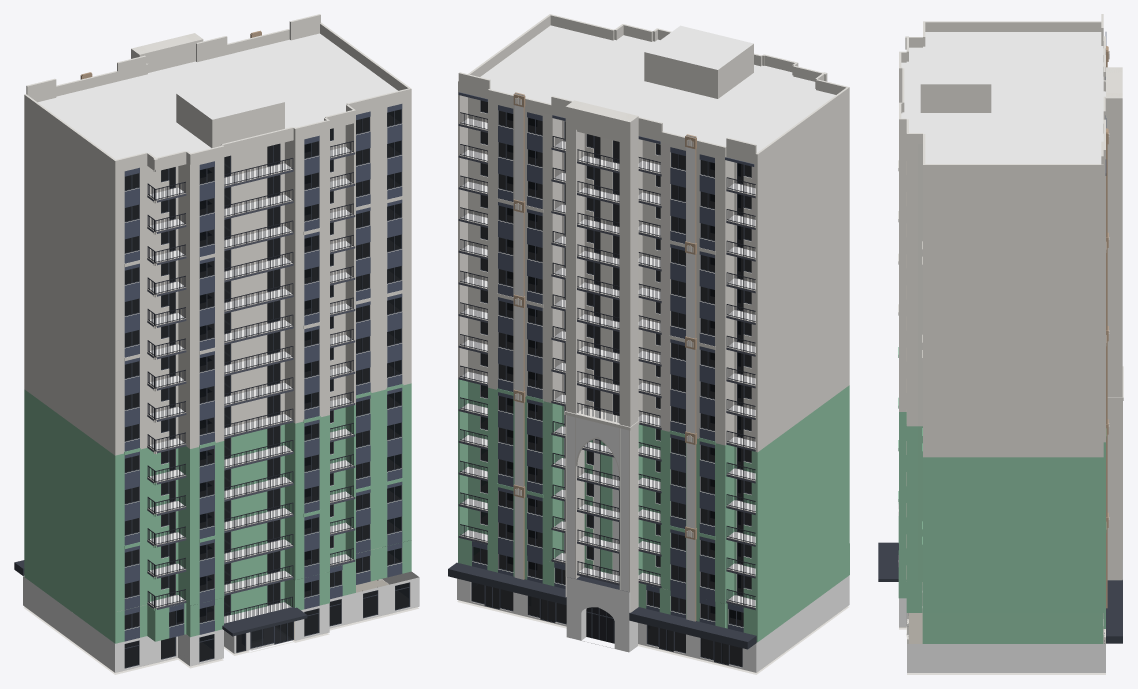
File: blok1.glb
3 renders of one model, left to right at view 1: azimuth 30°, elevation 25°; view 2: azimuth 150°, elevation 25°; view 3: azimuth 270°, elevation 25°, orthographic.
Parts seen in each view (by area): view 1: blok1_shell, blok1_thin, blok1_trim; view 2: blok1_shell, blok1_thin, blok1_trim; view 3: blok1_shell.
Part boxes in pixels (x1=…): blok1_shell: x1=14, y1=14, x2=419, y2=674; blok1_thin: x1=124, y1=109, x2=409, y2=667; blok1_trim: x1=124, y1=109, x2=409, y2=668; blok1_shell: x1=448, y1=14, x2=849, y2=674; blok1_thin: x1=460, y1=100, x2=755, y2=666; blok1_trim: x1=471, y1=100, x2=751, y2=667; blok1_shell: x1=878, y1=14, x2=1123, y2=674.
Size of the model in its own units: 29.71 by 51 by 21.47.
